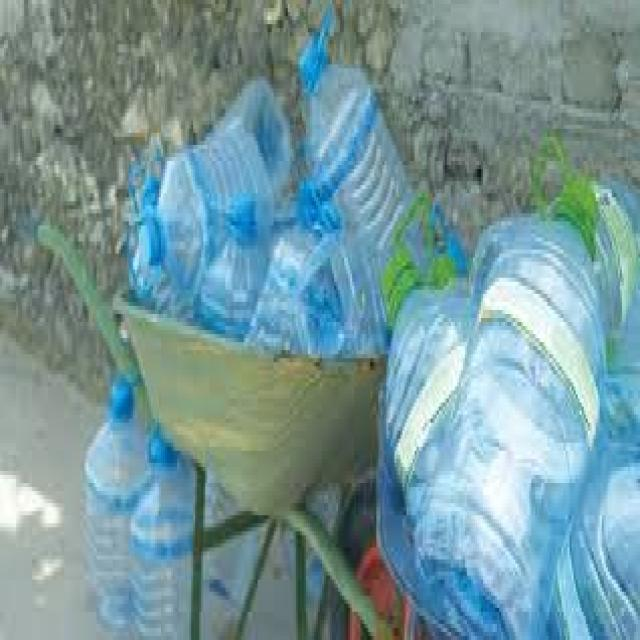Galon: (89, 0, 376, 366), (389, 240, 640, 640), (57, 378, 203, 634)
